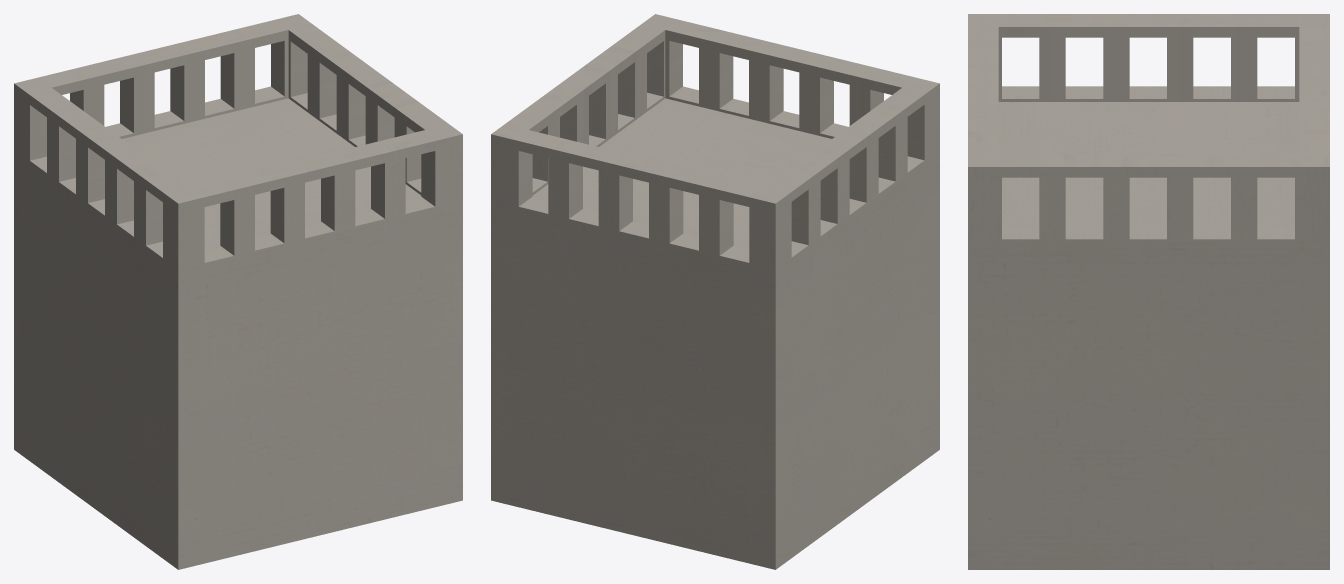
File: WhiteBrick_Top_.fbx
3 views of the same model, side by side, from view 1: azimuth 30°, elevation 25°; view 2: azimuth 150°, elevation 25°; view 3: azimuth 270°, elevation 25° (orthographic). The views are drawn at different scales.
Visible parts, largest first — view 1: Cube.010; view 2: Cube.010; view 3: Cube.010.
Part boxes in pixels (bbox=[...]): Cube.010: bbox=[14, 14, 462, 569]; Cube.010: bbox=[491, 14, 939, 569]; Cube.010: bbox=[968, 14, 1329, 569].
Bounding box in the file's own units: 200 × 246 × 200.
